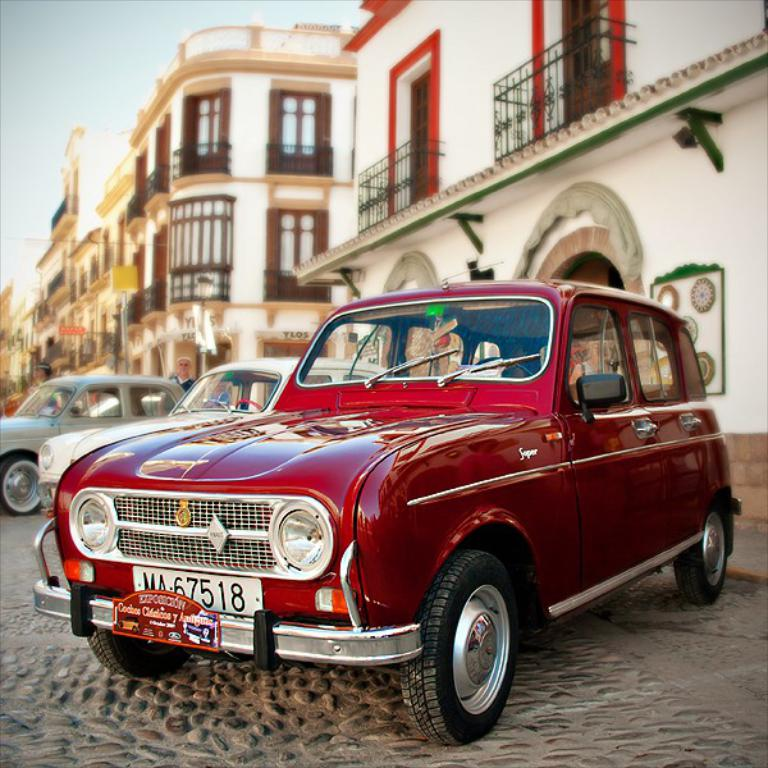Car: (33, 261, 737, 747), (40, 360, 387, 513), (0, 381, 183, 509)
